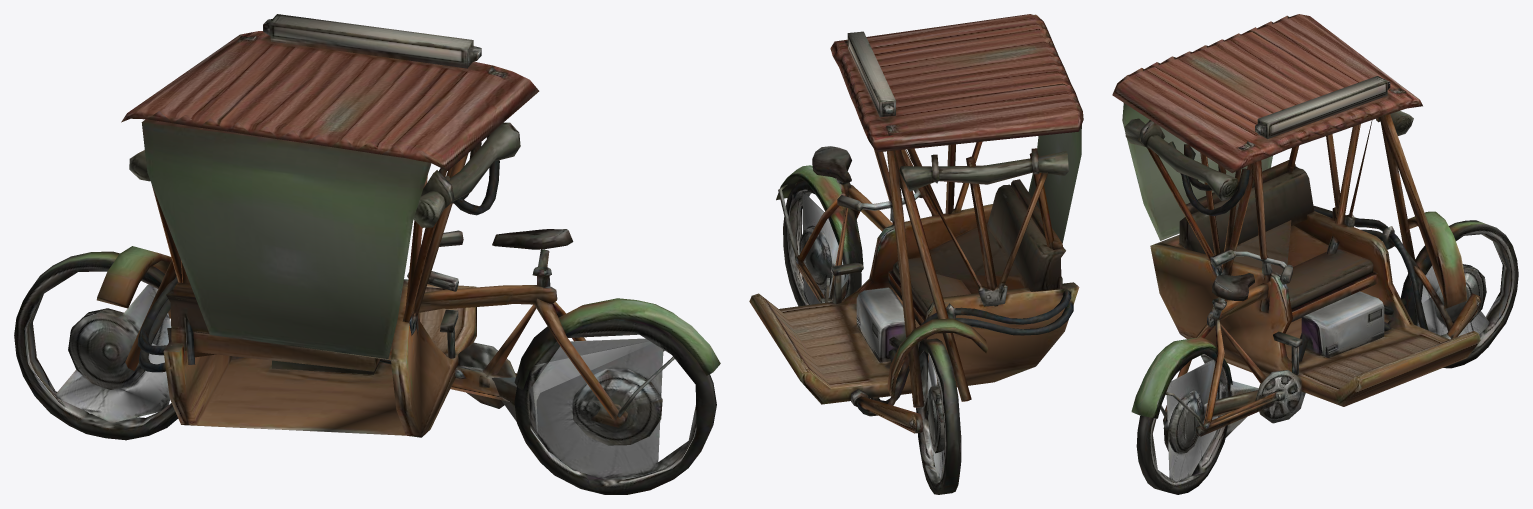
The model's file is city_trishaw.glb.
3 views of the same model, side by side, from view 1: azimuth 30°, elevation 25°; view 2: azimuth 150°, elevation 25°; view 3: azimuth 270°, elevation 25° (orthographic). The views are drawn at different scales.
Visible parts, largest first — view 1: Body; view 2: Body; view 3: Body.
Part boxes in pixels (x1=…): Body: x1=14, y1=14, x2=720, y2=494; Body: x1=749, y1=14, x2=1083, y2=494; Body: x1=1112, y1=14, x2=1518, y2=494.
Bounding box in the file's own units: 2.5 × 2.12 × 2.35.
1 material, 1 textured.
